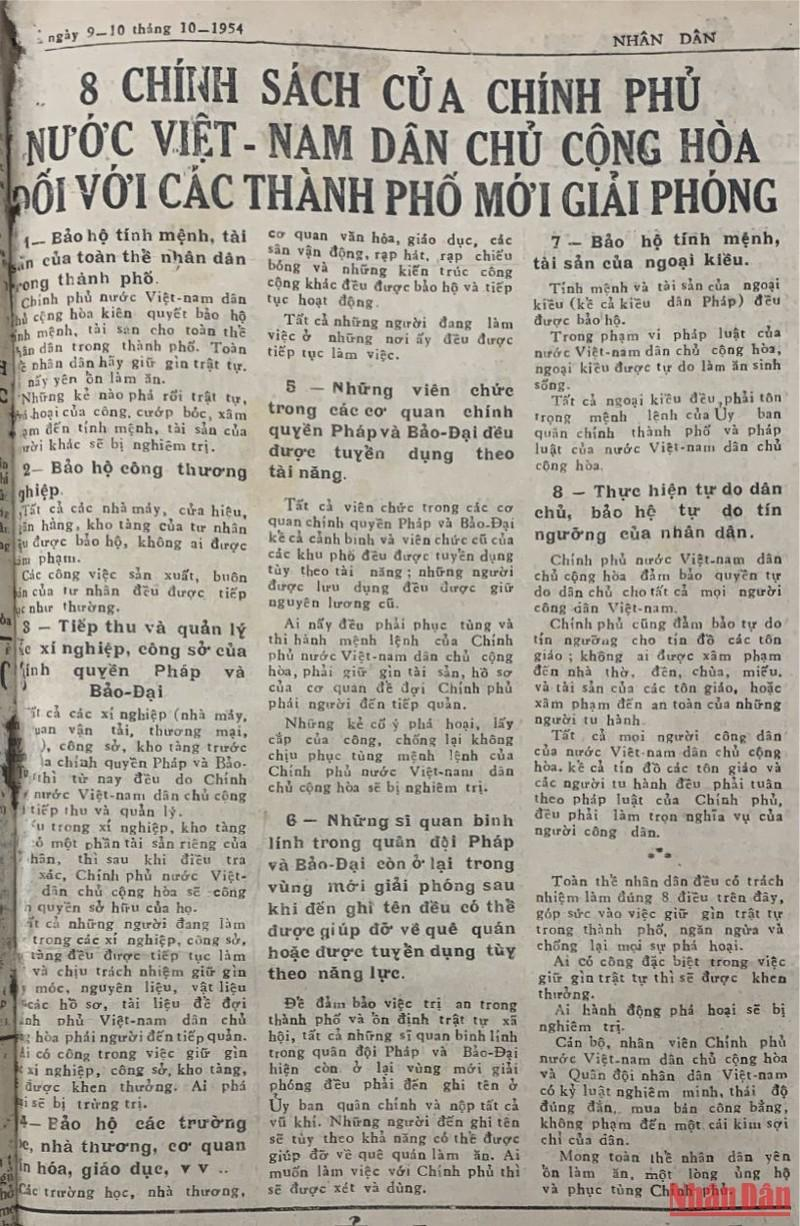paper: (3, 0, 798, 1226)
